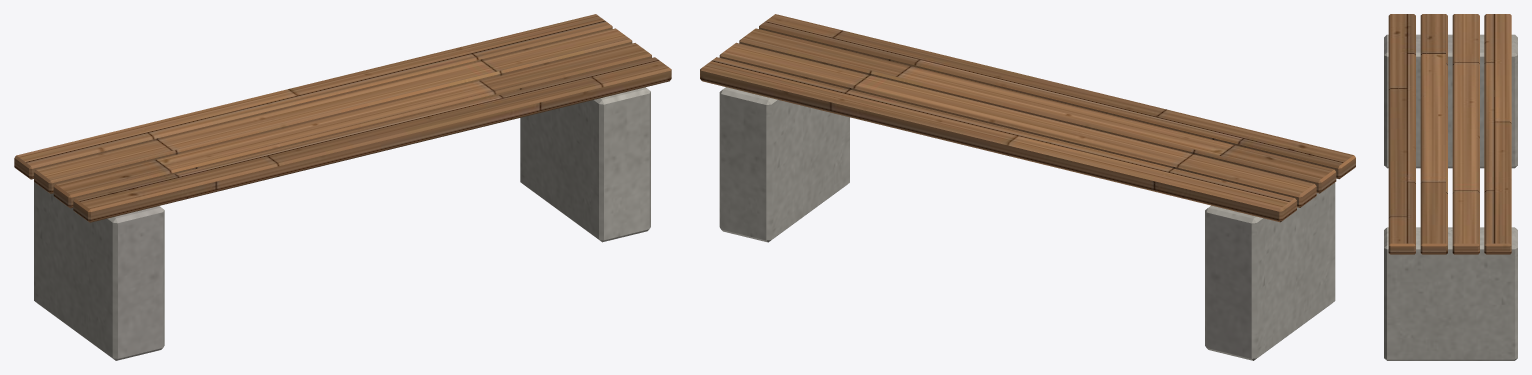
Rendered from bench.glb.
3 views of the same model, side by side, from view 1: azimuth 30°, elevation 25°; view 2: azimuth 150°, elevation 25°; view 3: azimuth 270°, elevation 25° (orthographic). The views are drawn at different scales.
Parts seen in each view (by area): view 1: bench_wood, bench_concrete; view 2: bench_wood, bench_concrete; view 3: bench_wood, bench_concrete.
Part boxes in pixels (x1,y1,x2,y2): bench_wood: (14,14,671,222); bench_concrete: (34,87,650,360); bench_wood: (700,14,1355,222); bench_concrete: (719,87,1335,360); bench_wood: (1388,14,1511,254); bench_concrete: (1384,34,1517,360).
Size of the model in its own units: 1.8 by 0.46 by 0.44.
2 materials, 2 textured.
